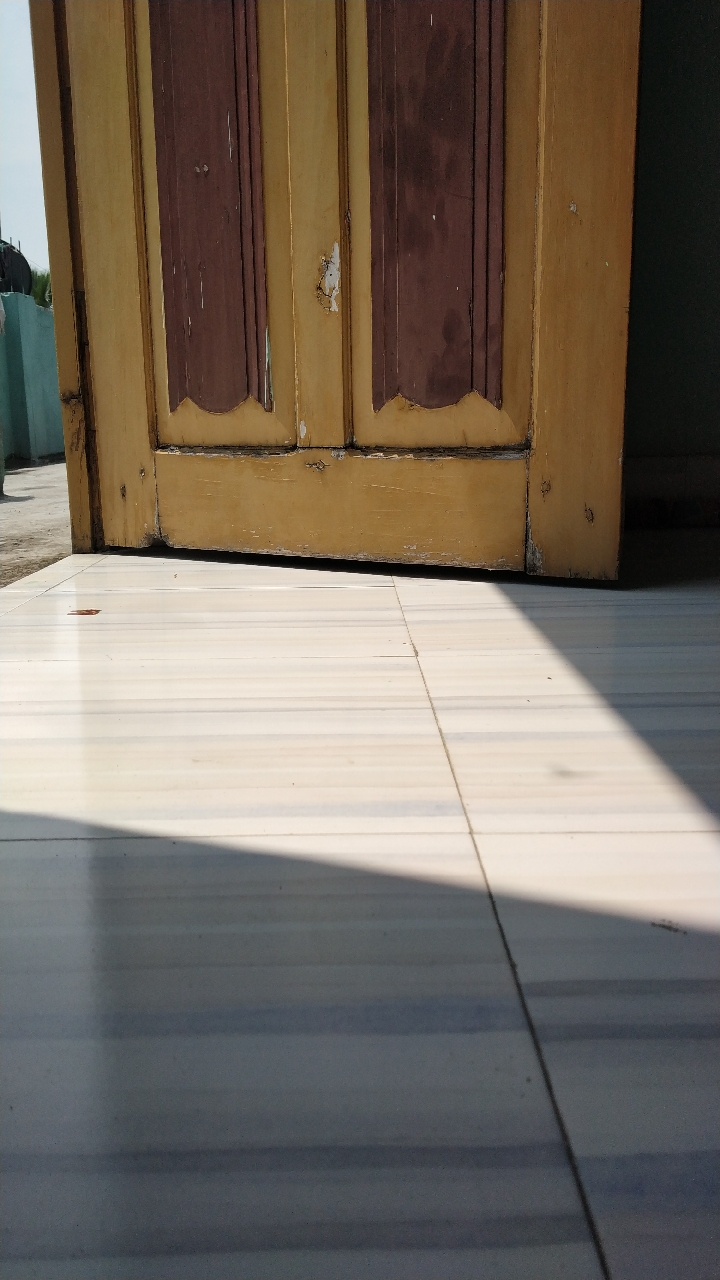Doors: (33, 137, 636, 608)
